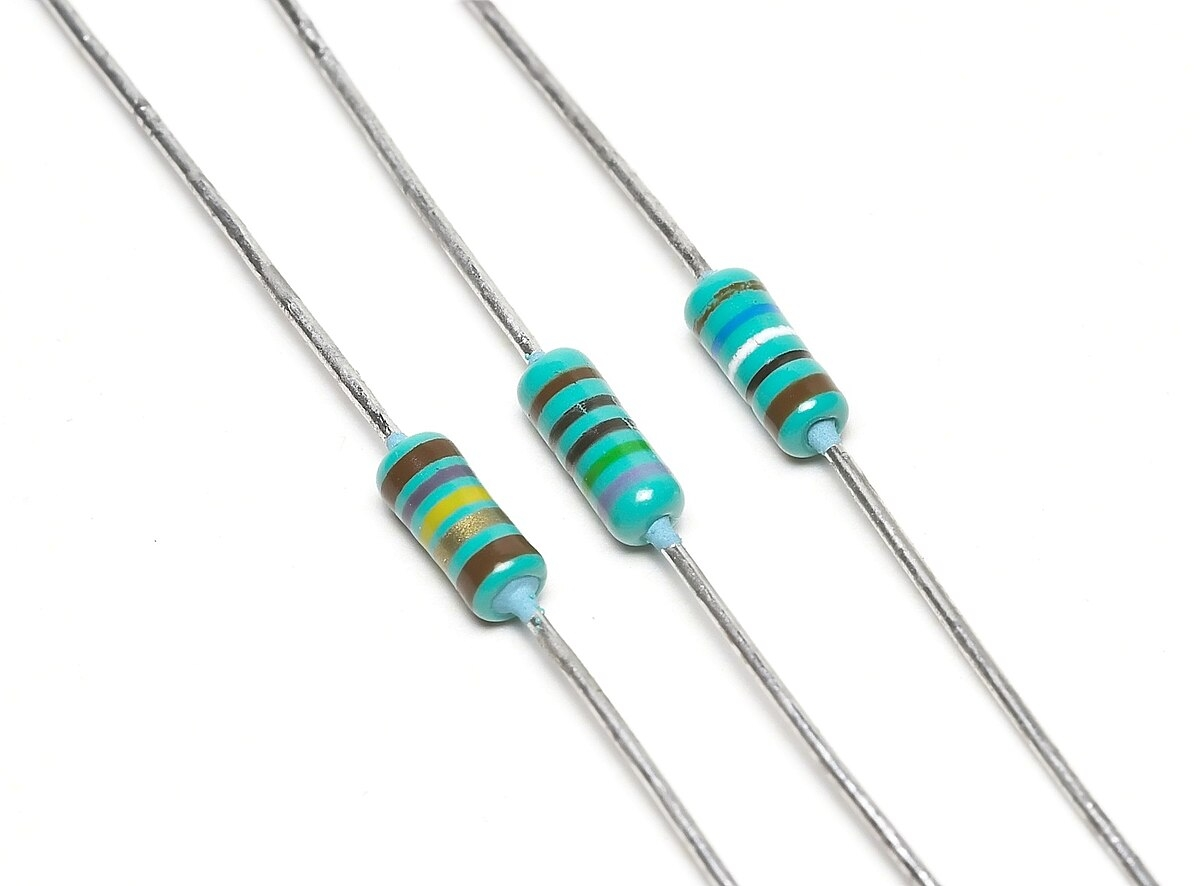resistor: (333, 387, 585, 657), (472, 316, 724, 586), (646, 225, 898, 495)
